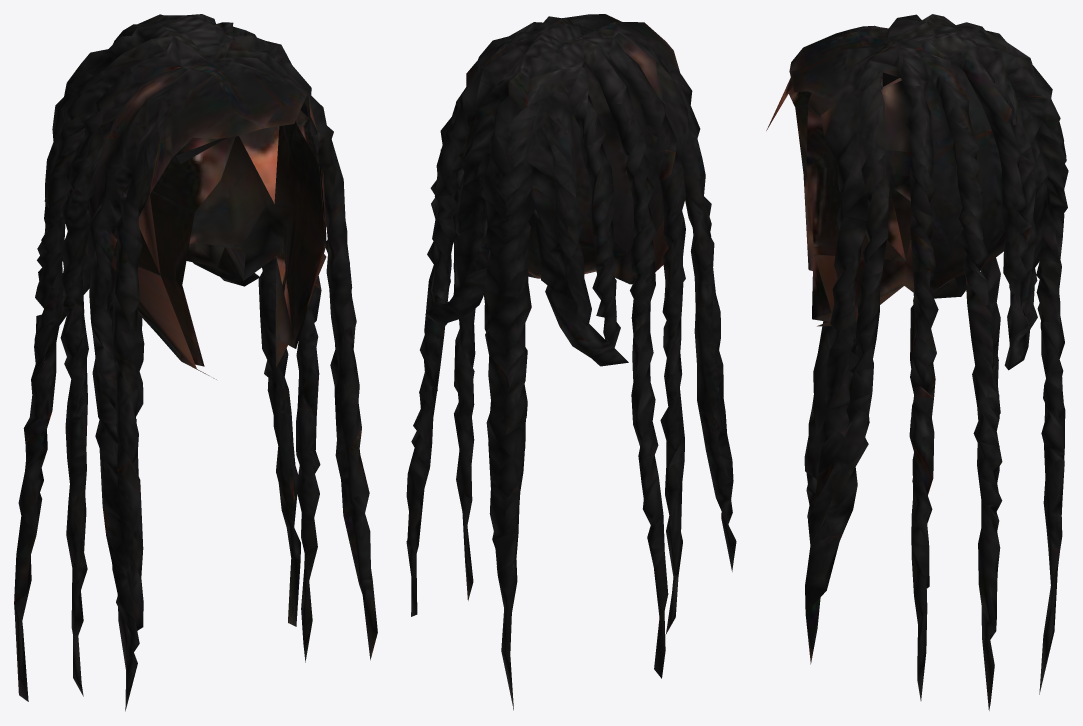
The model's file is hair-braids.glb.
3 renders of one model, left to right at view 1: azimuth 30°, elevation 25°; view 2: azimuth 150°, elevation 25°; view 3: azimuth 270°, elevation 25°, orthographic. The views are drawn at different scales.
Parts seen in each view (by area): view 1: hair; view 2: hair; view 3: hair.
Part boxes in pixels (x1,y1,x2,y2): hair: [14, 14, 377, 711]; hair: [406, 14, 736, 710]; hair: [766, 14, 1068, 710].
Bounding box in the file's own units: 0.5182 × 1.21 × 0.4992.
1 material, 1 textured.
